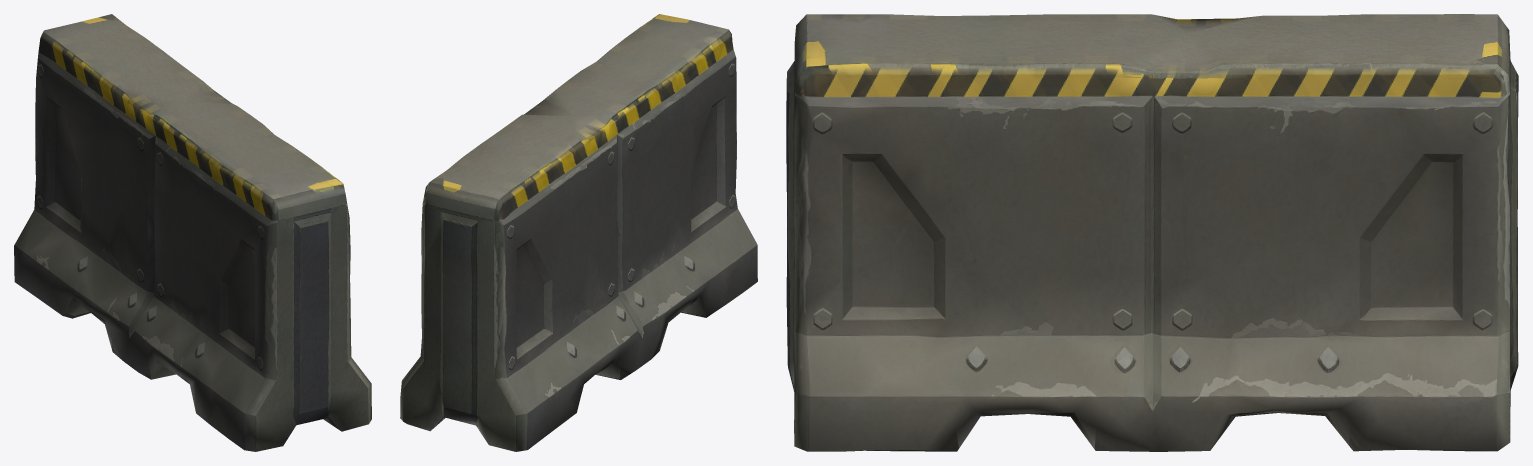
The model's file is Barricade.fbx.
3 views of the same model, side by side, from view 1: azimuth 30°, elevation 25°; view 2: azimuth 150°, elevation 25°; view 3: azimuth 270°, elevation 25° (orthographic). The views are drawn at different scales.
Parts seen in each view (by area): view 1: texture_mapping; view 2: texture_mapping; view 3: texture_mapping.
Part boxes in pixels (x1=…): texture_mapping: x1=14, y1=14, x2=371, y2=451; texture_mapping: x1=400, y1=14, x2=757, y2=451; texture_mapping: x1=786, y1=14, x2=1518, y2=451.
Size of the model in its own units: 0.3041 by 0.9941 by 0.5572.
1 material, 1 textured.
